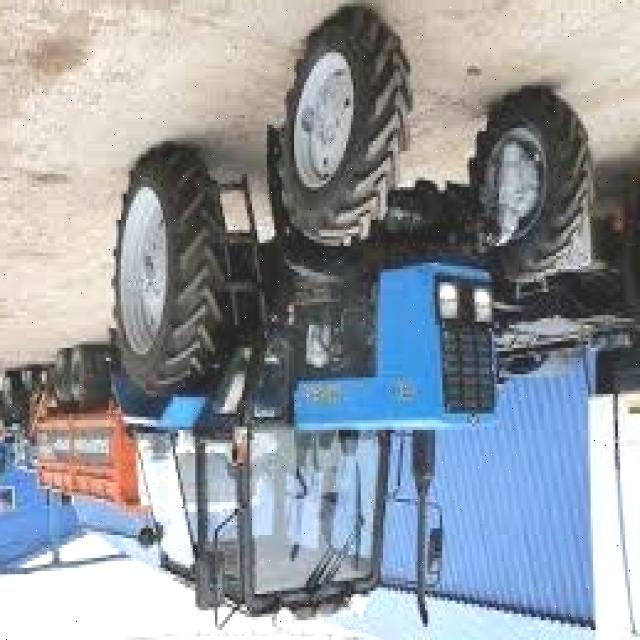Tratores - v5 YOLO V8L 2024-11-13: (111, 5, 594, 618)
